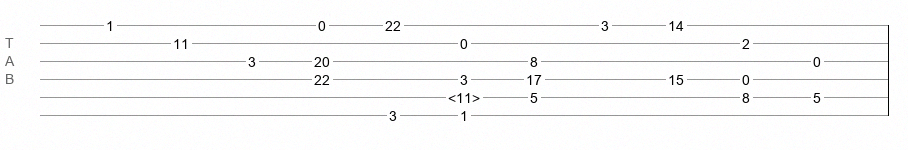0: (318, 18, 326, 28), (460, 36, 468, 46), (742, 72, 750, 82), (813, 54, 821, 64)
1: (106, 18, 114, 28), (460, 108, 468, 118)
11: (173, 36, 189, 46)
14: (668, 18, 684, 28)
15: (668, 72, 684, 82)
17: (526, 72, 542, 82)
2: (742, 36, 750, 46)
20: (314, 54, 330, 64)
22: (314, 72, 330, 82), (385, 18, 401, 28)
3: (248, 54, 256, 64), (389, 108, 397, 118), (460, 72, 468, 82), (601, 18, 609, 28)
5: (530, 90, 538, 100), (813, 90, 821, 100)
8: (530, 54, 538, 64), (742, 90, 750, 100)
harmonic: (448, 90, 480, 100)
